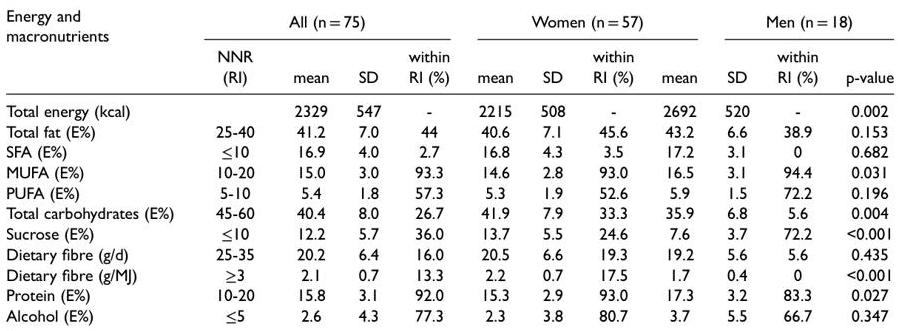table: (5, 5, 893, 326)
table column: (5, 5, 194, 326), (194, 5, 273, 326), (273, 5, 342, 326), (394, 5, 463, 326), (578, 5, 647, 326), (762, 5, 831, 326), (463, 5, 526, 326), (647, 5, 710, 326), (831, 5, 893, 326), (342, 5, 394, 326), (526, 5, 578, 326), (710, 5, 762, 326)
table column header: (5, 5, 893, 93)
table row: (5, 38, 893, 93), (5, 5, 893, 38), (5, 93, 893, 120), (5, 140, 893, 162), (5, 222, 893, 244), (5, 263, 893, 285), (5, 304, 893, 326), (5, 120, 893, 140), (5, 162, 893, 182), (5, 182, 893, 202), (5, 202, 893, 222), (5, 244, 893, 263), (5, 285, 893, 304)
table spanning cell: (5, 5, 194, 93), (194, 5, 463, 38), (463, 5, 710, 38), (710, 5, 893, 38)
